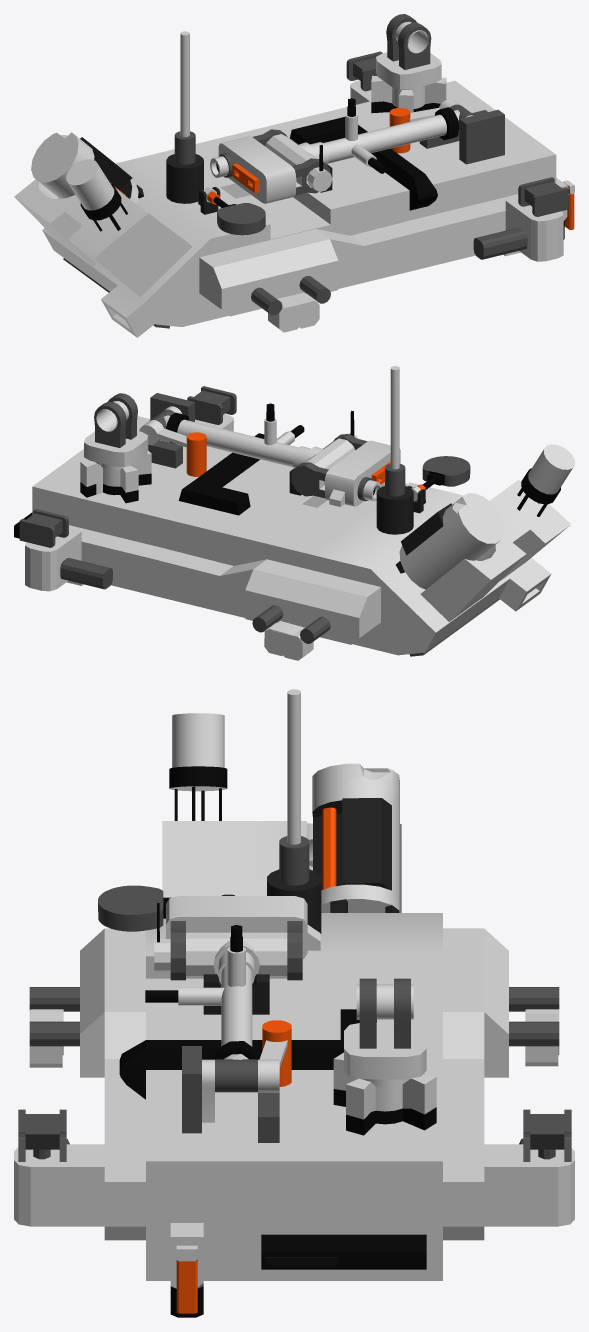
Rendered from Cuerpo.obj.
3 views of the same model, one above another, from view 1: azimuth 30°, elevation 25°; view 2: azimuth 150°, elevation 25°; view 3: azimuth 270°, elevation 25° (orthographic). The views are drawn at different scales.
Parts seen in each view (by area): view 1: Cuerpo_SpacialRoverExploreralumWhite, Cuerpo_SpacialRoverExploreralumGray, Cuerpo_SpacialRoverExploreralumBlack, Cuerpo_SpacialRoverExploreralumGrayDeep, Cuerpo_SpacialRoverExploreralumOrange; view 2: Cuerpo_SpacialRoverExploreralumWhite, Cuerpo_SpacialRoverExploreralumGray, Cuerpo_SpacialRoverExploreralumBlack, Cuerpo_SpacialRoverExploreralumGrayDeep, Cuerpo_SpacialRoverExploreralumOrange; view 3: Cuerpo_SpacialRoverExploreralumWhite, Cuerpo_SpacialRoverExploreralumGray, Cuerpo_SpacialRoverExploreralumBlack, Cuerpo_SpacialRoverExploreralumGrayDeep, Cuerpo_SpacialRoverExploreralumOrange.
Part boxes in pixels (x1=…): Cuerpo_SpacialRoverExploreralumWhite: x1=14, y1=21, x2=574, y2=337; Cuerpo_SpacialRoverExploreralumGray: x1=63, y1=14, x2=568, y2=328; Cuerpo_SpacialRoverExploreralumBlack: x1=80, y1=98, x2=564, y2=239; Cuerpo_SpacialRoverExploreralumGrayDeep: x1=80, y1=137, x2=332, y2=214; Cuerpo_SpacialRoverExploreralumOrange: x1=110, y1=108, x2=574, y2=229; Cuerpo_SpacialRoverExploreralumWhite: x1=25, y1=366, x2=574, y2=660; Cuerpo_SpacialRoverExploreralumGray: x1=19, y1=386, x2=499, y2=656; Cuerpo_SpacialRoverExploreralumBlack: x1=14, y1=403, x2=560, y2=538; Cuerpo_SpacialRoverExploreralumGrayDeep: x1=289, y1=468, x2=451, y2=573; Cuerpo_SpacialRoverExploreralumOrange: x1=186, y1=432, x2=425, y2=489; Cuerpo_SpacialRoverExploreralumWhite: x1=14, y1=689, x2=574, y2=1288; Cuerpo_SpacialRoverExploreralumGray: x1=18, y1=836, x2=571, y2=1161; Cuerpo_SpacialRoverExploreralumBlack: x1=119, y1=766, x2=436, y2=1317; Cuerpo_SpacialRoverExploreralumGrayDeep: x1=203, y1=798, x2=399, y2=1257; Cuerpo_SpacialRoverExploreralumOrange: x1=176, y1=807, x2=336, y2=1313.
Bounding box in the file's own units: 10.27 × 5.1 × 6.8.
